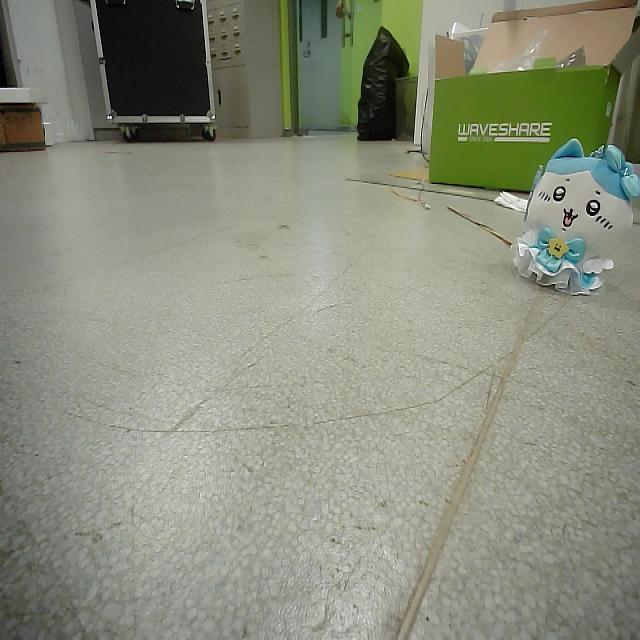xiaoba: (512, 133, 640, 300)
